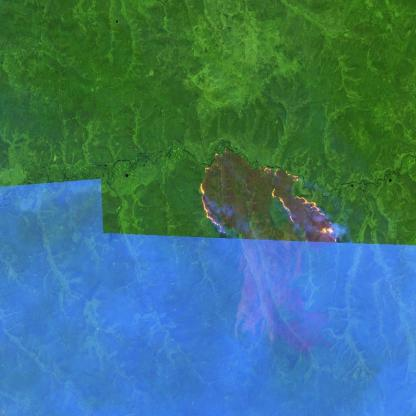fire: (196, 144, 338, 244)
